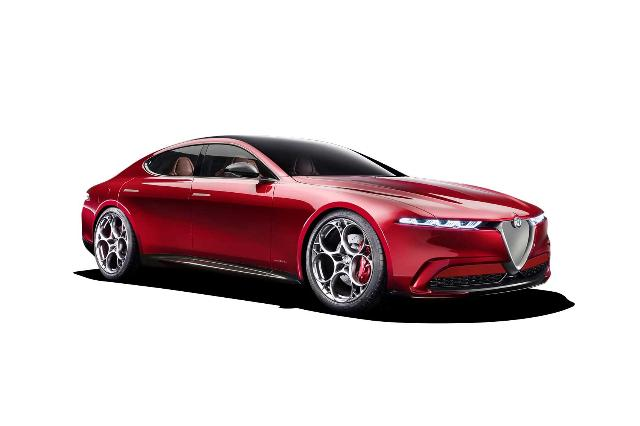alpha-romeo: (80, 134, 552, 316)
